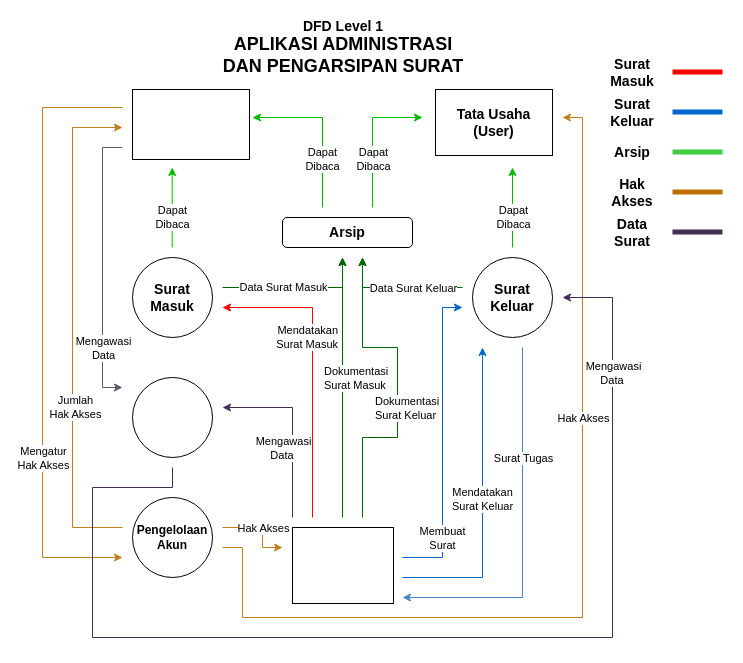
The diagram is 743 pixels wide and 663 high, and some of its shapes have lost their labels. The centre of each missing label's shape, as x and y in pixels:
Arsiparis Ahli Muda (Superadmin): [191,124]
Data Pembuatan Surat: [172,417]
Persuratan TU (Admin): [343,565]
